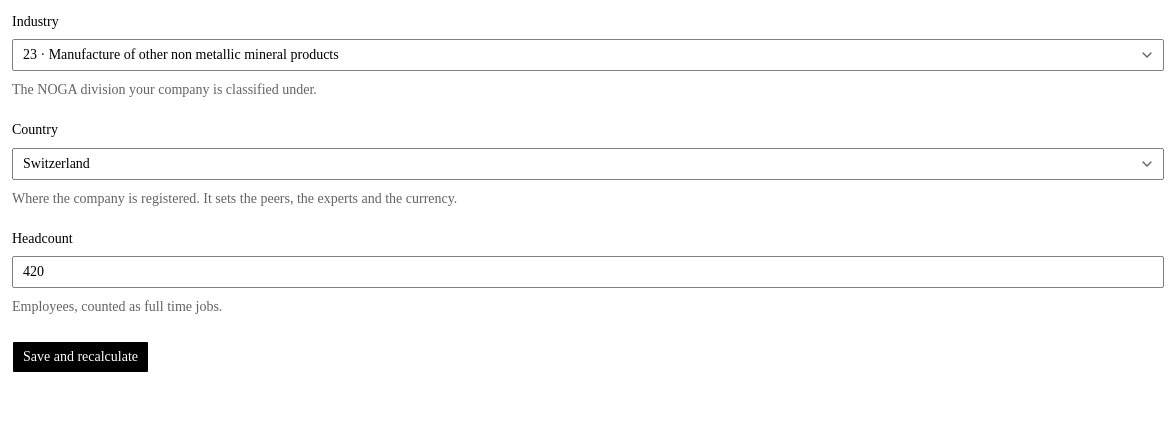
Test: FactsForm (AC-11) › announces the fallback when the save landed but the recalculation could not be queued
Replace the text in the number field labelled "Headcount" with "99" at (588, 272), box [12,256,1164,288]
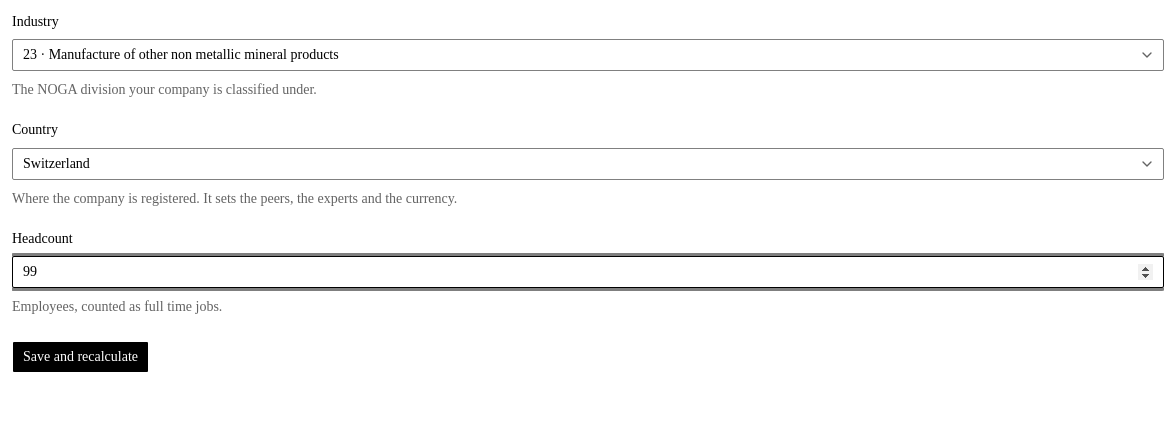
Click the button "Save and recalculate" at (80, 357), box [12,341,149,373]
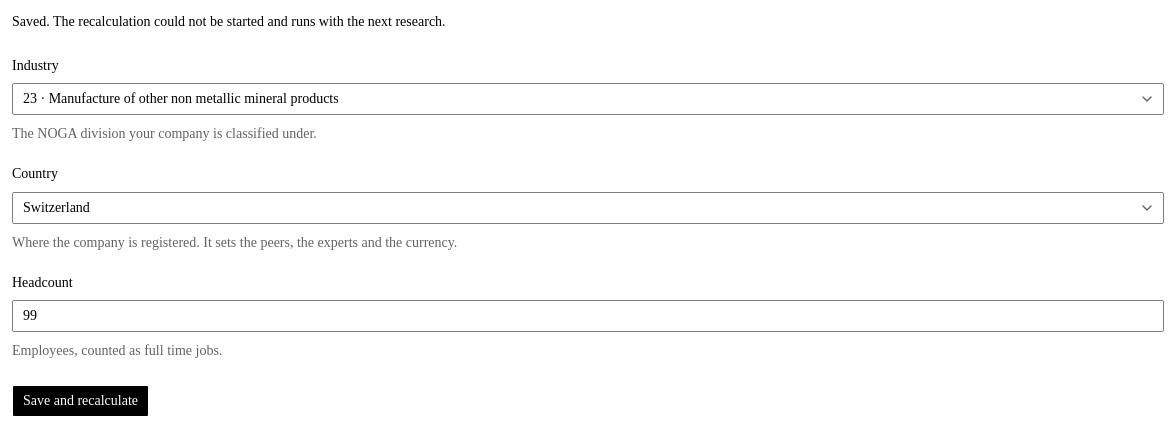
Check: the message reads "Saved. The recalculation could not be started and runs with the next research.", box [12,14,446,29]
